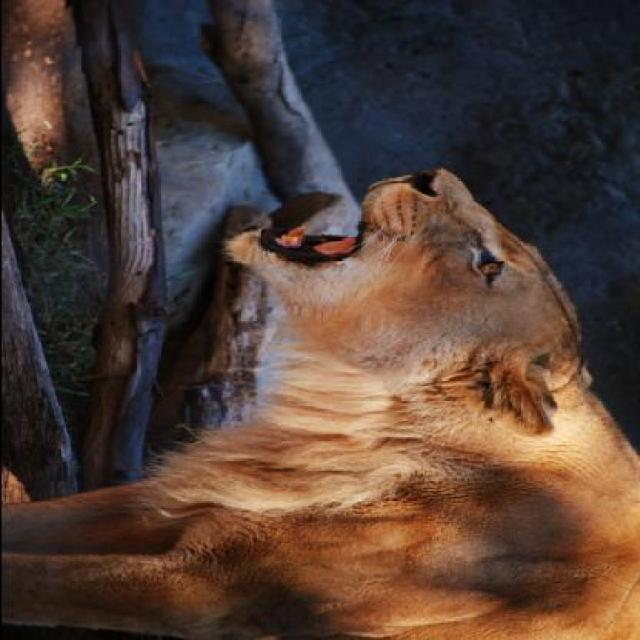Lion: (1, 143, 632, 639)
